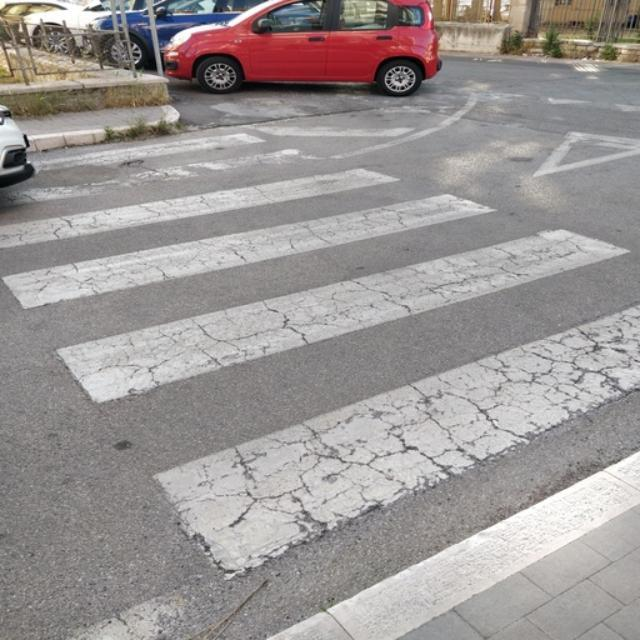sidewalk: (0, 126, 640, 581)
